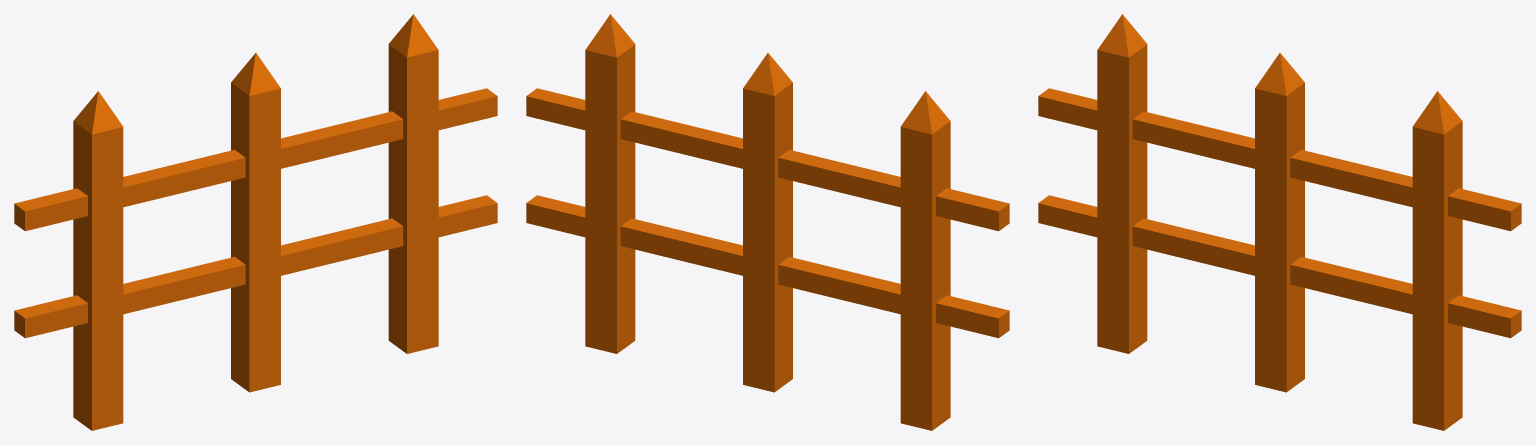
Rendered from fence.fbx.
3 views of the same model, side by side, from view 1: azimuth 30°, elevation 25°; view 2: azimuth 150°, elevation 25°; view 3: azimuth 330°, elevation 25° (orthographic).
Visible parts, largest first — view 1: Cube.001; view 2: Cube.001; view 3: Cube.001.
Boxes of the visible parts, x1,y1,x2,y2 form: Cube.001: [14, 14, 497, 430]; Cube.001: [526, 14, 1009, 430]; Cube.001: [1038, 14, 1521, 430].
Bounding box in the file's own units: 3 × 2 × 0.2032.
